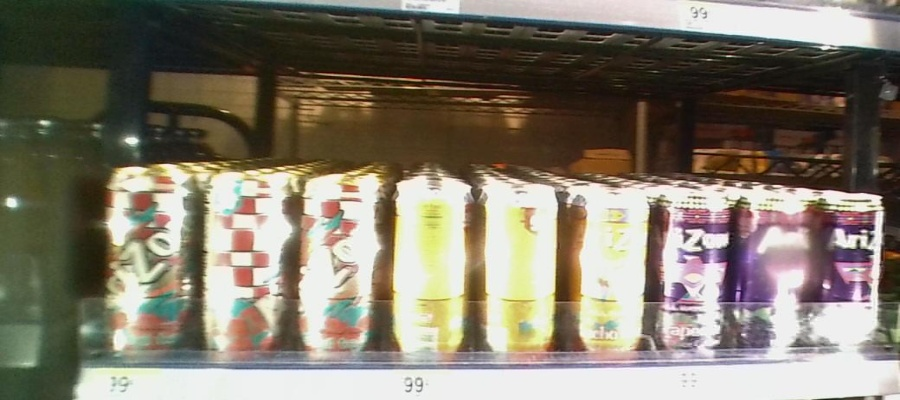bottle: (96, 150, 198, 361), (292, 165, 381, 364), (205, 159, 288, 370), (386, 176, 470, 367), (476, 177, 562, 363), (731, 170, 810, 360), (569, 183, 649, 366), (654, 173, 729, 361), (811, 172, 885, 357)
